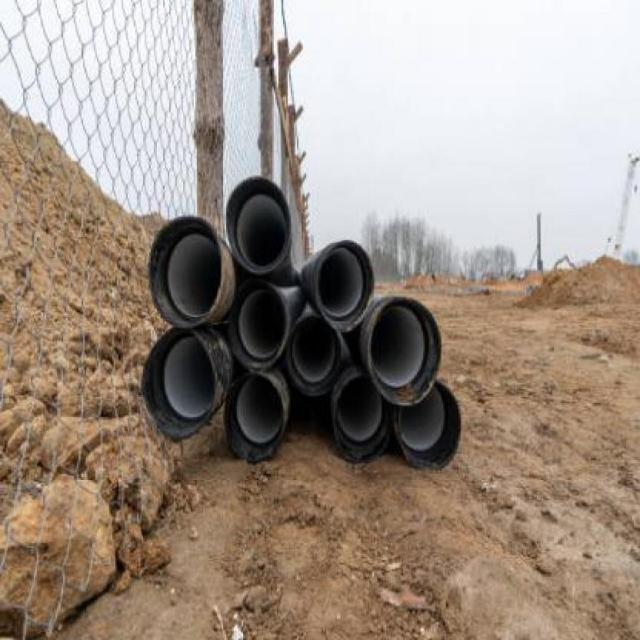pipe: (142, 326, 216, 440), (148, 215, 221, 326), (370, 296, 442, 406), (226, 175, 291, 274), (316, 239, 375, 332), (399, 383, 462, 470), (224, 373, 286, 461), (229, 279, 288, 370), (334, 373, 390, 463), (288, 314, 342, 396)
